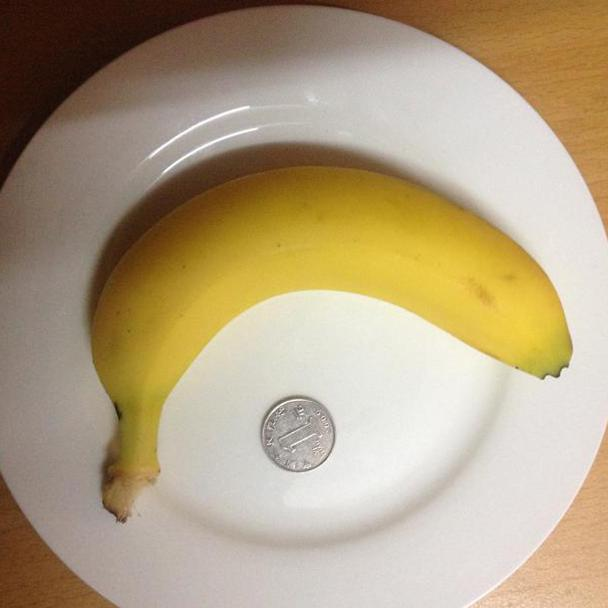banana: (85, 163, 580, 413)
